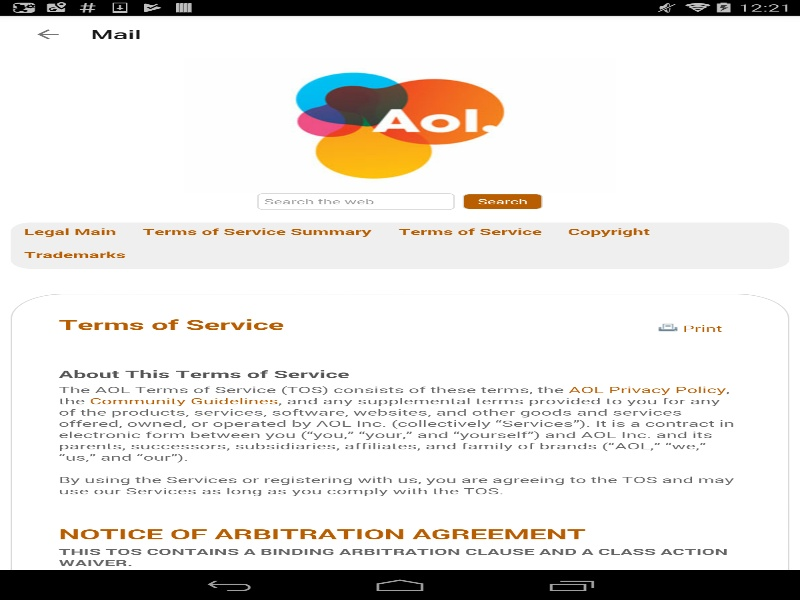Button: (10, 15, 85, 53), (462, 193, 544, 209)
Input: (257, 193, 455, 210)
